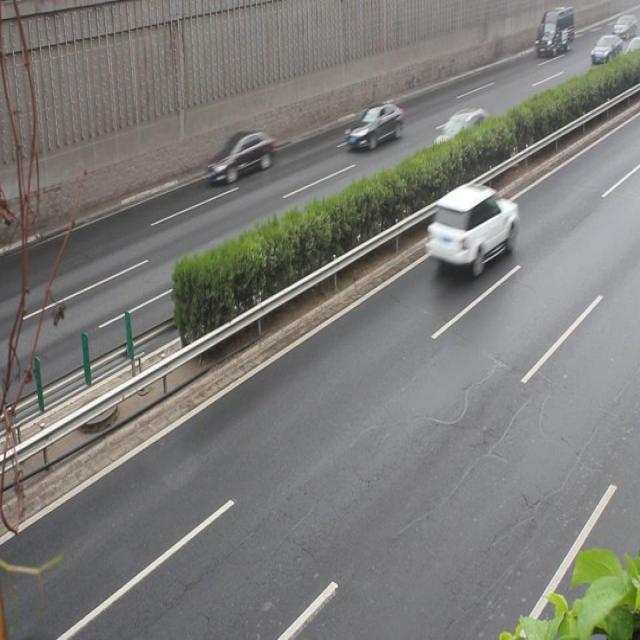car: (426, 181, 517, 272), (207, 130, 274, 188), (344, 102, 402, 150), (434, 110, 488, 154)
